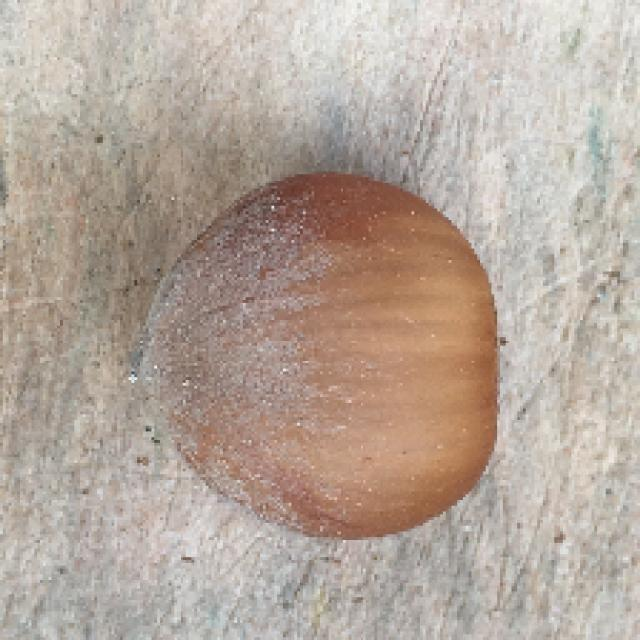qualityHazelnut: (138, 174, 504, 541)
